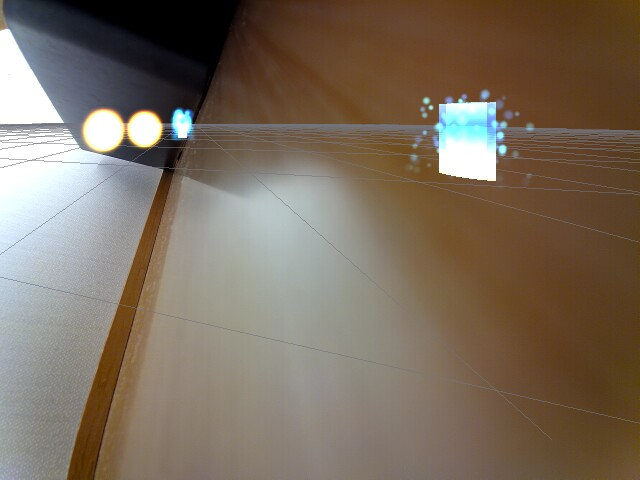firebig: (83, 102, 124, 151)
